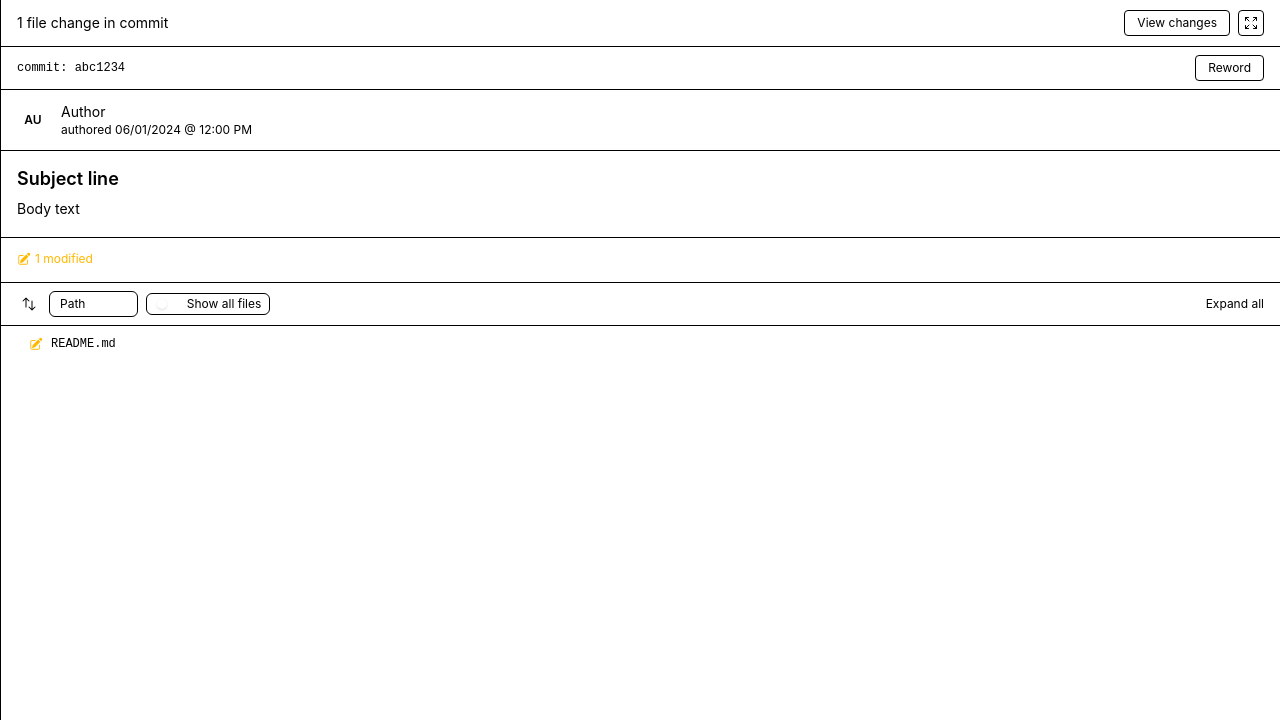
CommitPreview › opens reword modal from the reword button
Step 1. Click the button "Reword" → {"x": 1230, "y": 68}, box [1195,55,1264,81]
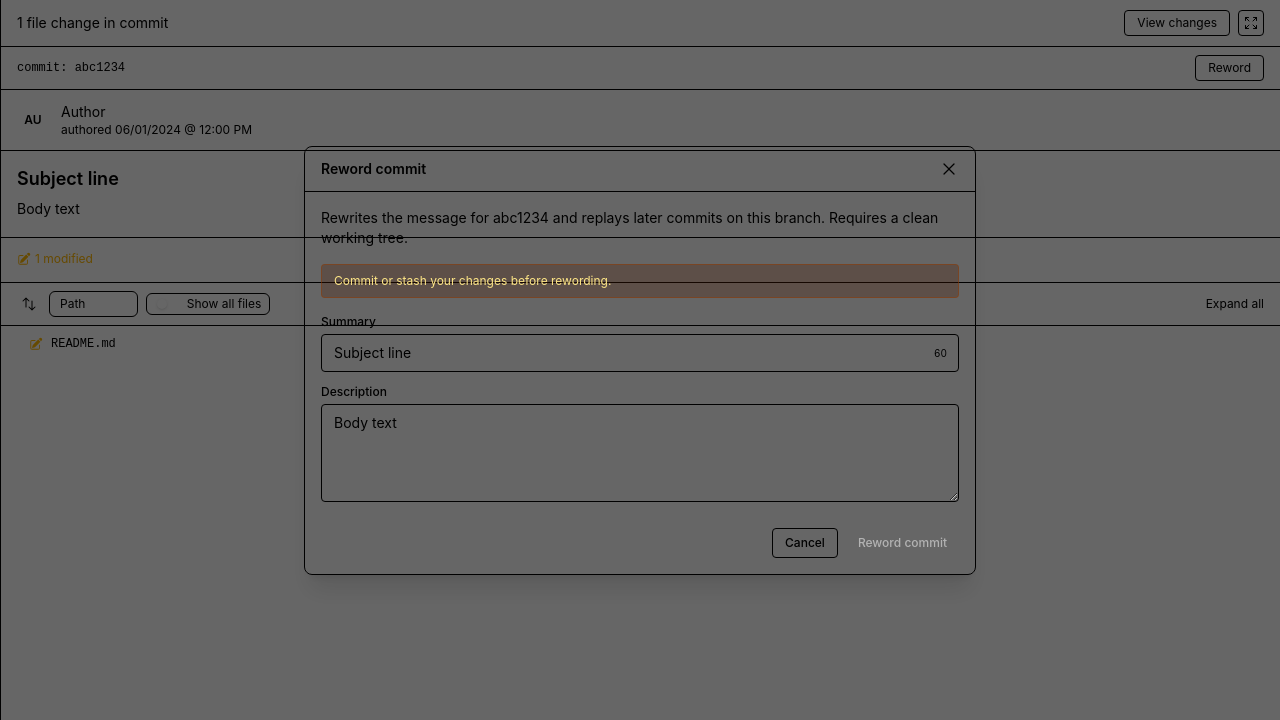
Expected: the dialog is shown, [304,146,976,574]
